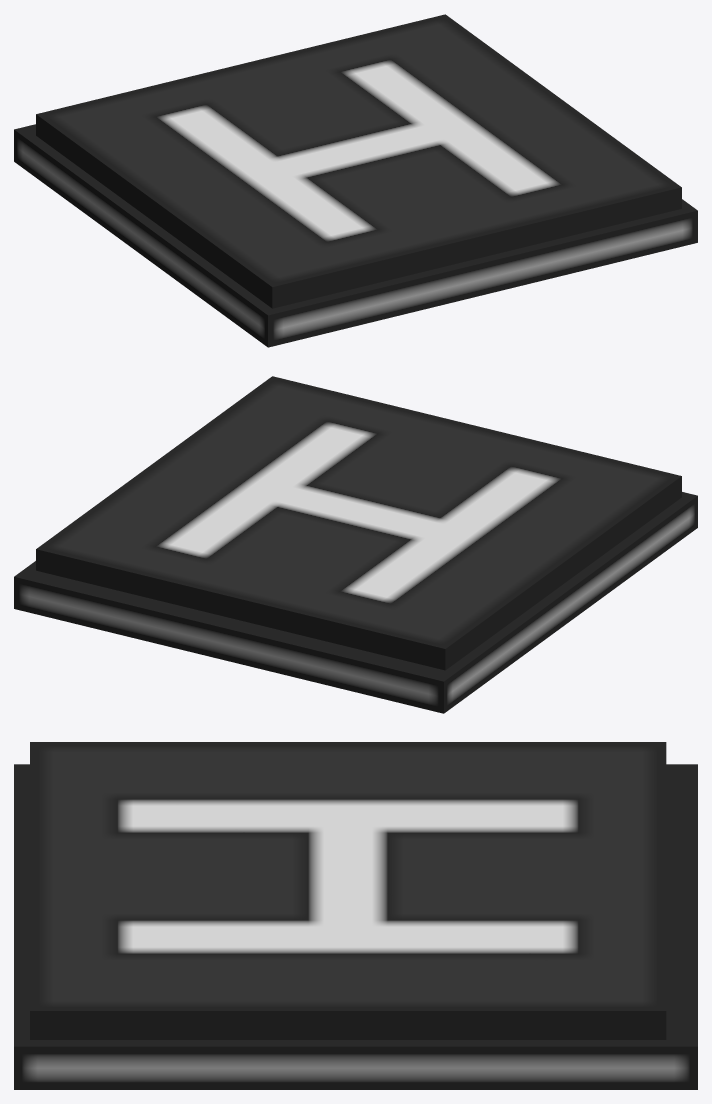
3 renders of one model, top to bottom at view 1: azimuth 30°, elevation 25°; view 2: azimuth 150°, elevation 25°; view 3: azimuth 270°, elevation 25°, orthographic. The views are drawn at different scales.
Visible parts, largest first — view 1: Matrix_4; view 2: Matrix_4; view 3: Matrix_4.
Part boxes in pixels (x1,y1,x2,y2): Matrix_4: (14, 14, 697, 347); Matrix_4: (14, 376, 697, 713); Matrix_4: (14, 742, 697, 1089).
Size of the model in its own units: 42 by 5 by 43.
